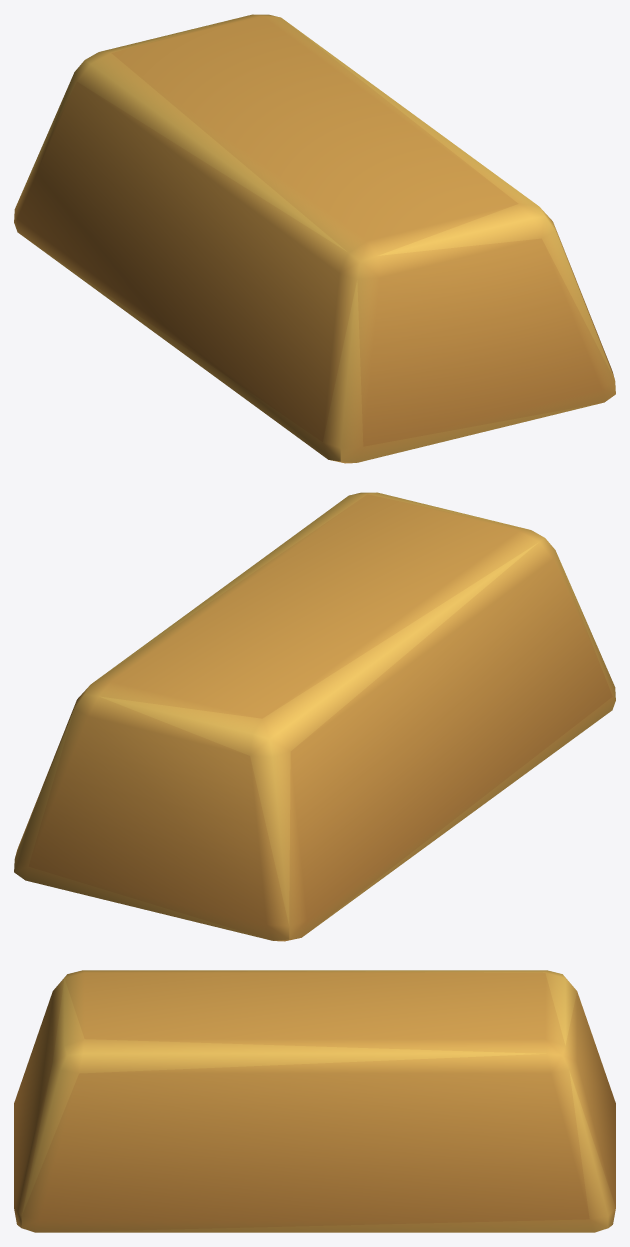
File: gold_bar.glb
The picture shows the model from 3 angles, top to bottom: view 1: azimuth 30°, elevation 25°; view 2: azimuth 150°, elevation 25°; view 3: azimuth 270°, elevation 25°; orthographic projection. The views are drawn at different scales.
Parts seen in each view (by area): view 1: Gold_Bar; view 2: Gold_Bar; view 3: Gold_Bar.
Part boxes in pixels (x1=…): Gold_Bar: x1=14, y1=14, x2=615, y2=463; Gold_Bar: x1=14, y1=492, x2=615, y2=941; Gold_Bar: x1=14, y1=970, x2=615, y2=1232.
Bounding box in the file's own units: 0.4 × 0.25 × 0.8.
Materials: 1 (1 with a texture image).
